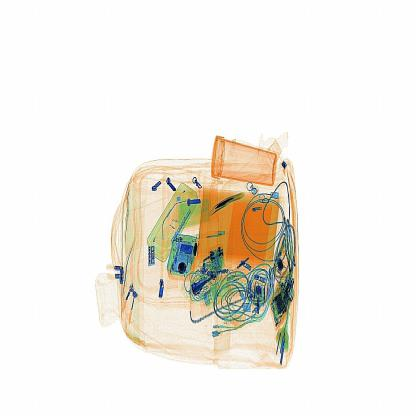wrench: (203, 181, 256, 222)
